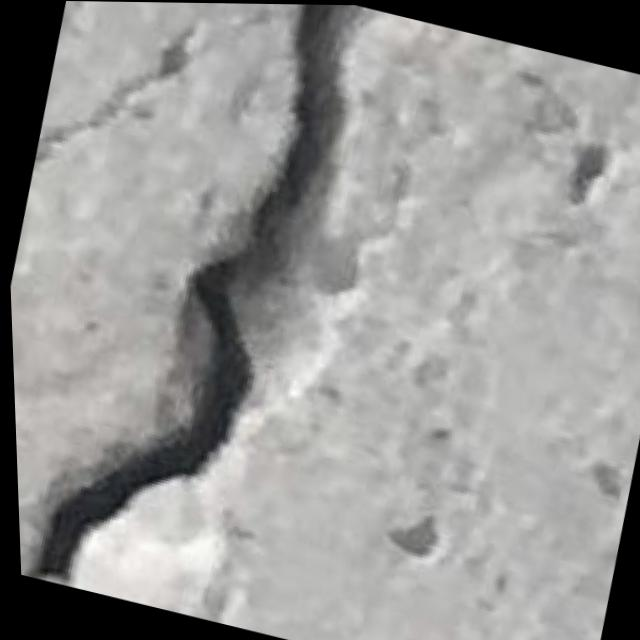Crack: (0, 0, 399, 633), (30, 0, 269, 210)
